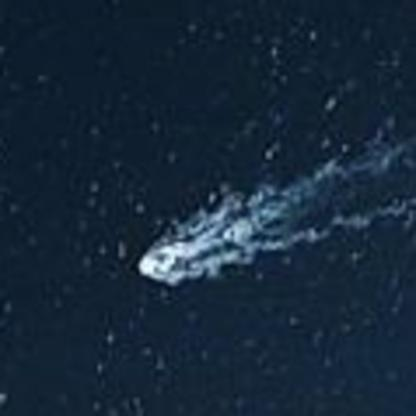ship: (129, 243, 205, 282)
